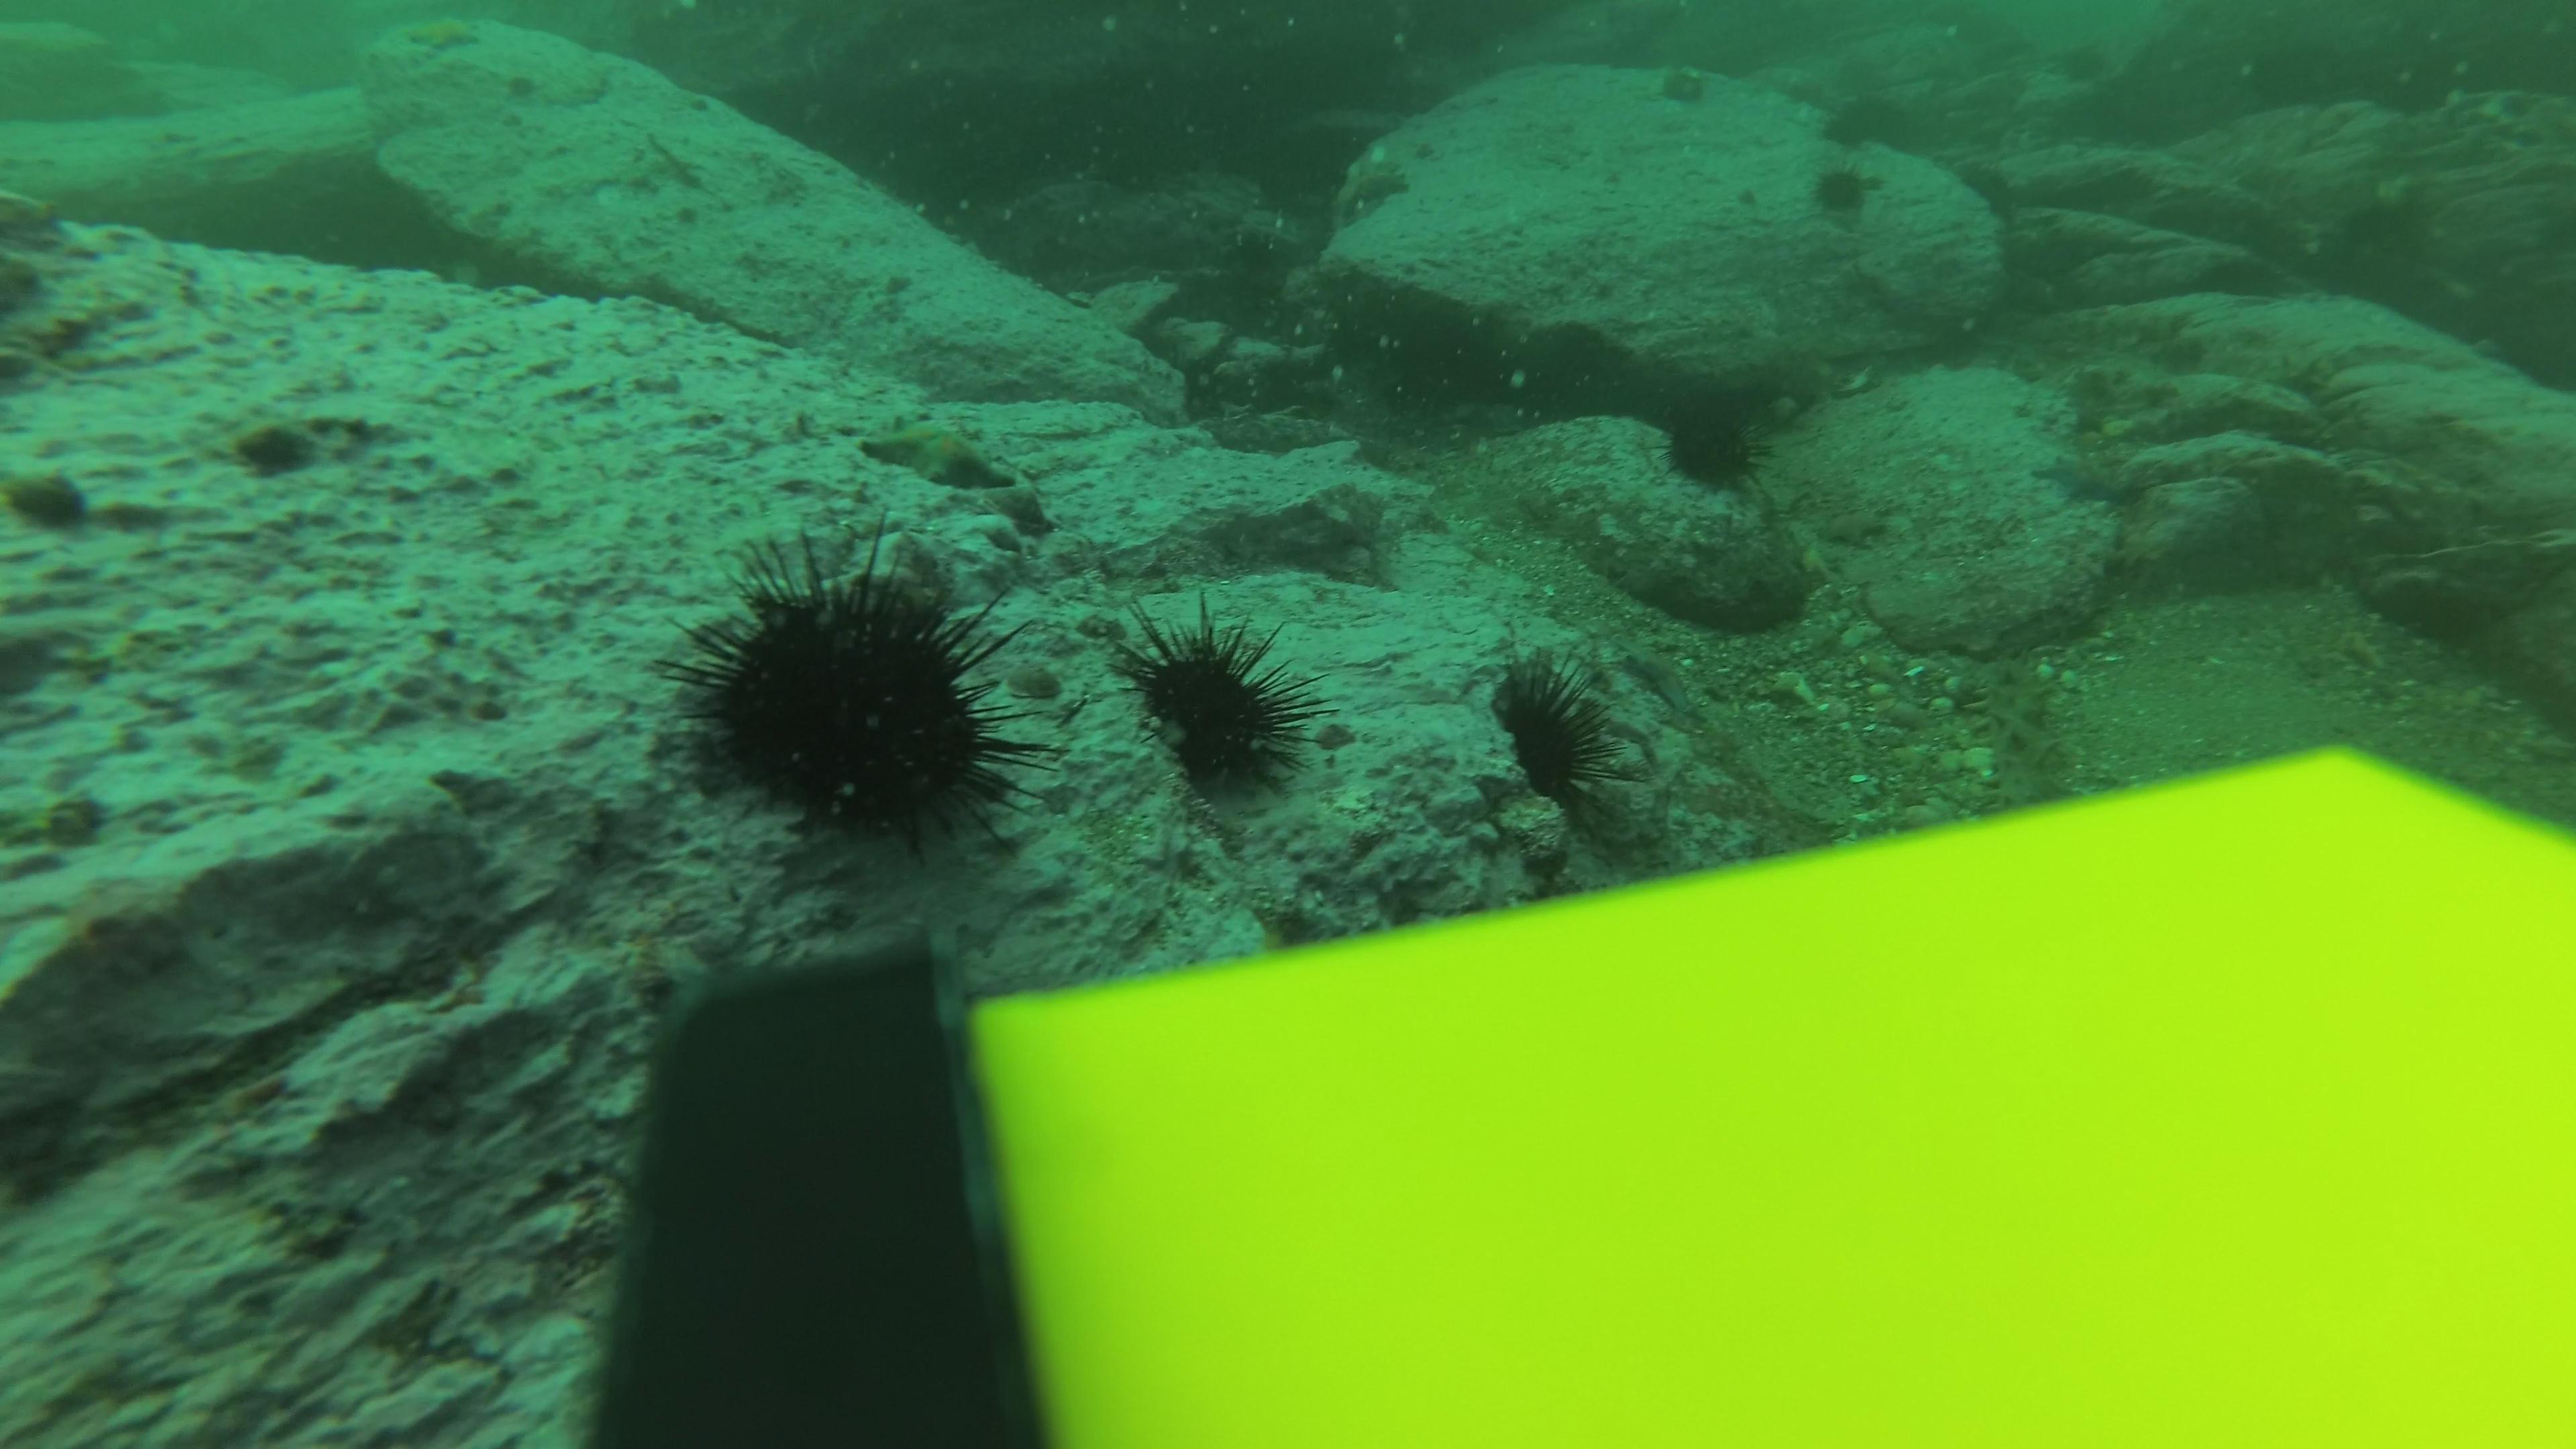urchin: (679, 518, 1033, 828), (1111, 605, 1339, 798), (1491, 640, 1663, 835), (1642, 396, 1792, 508), (1822, 103, 1895, 163), (1817, 168, 1881, 216)
